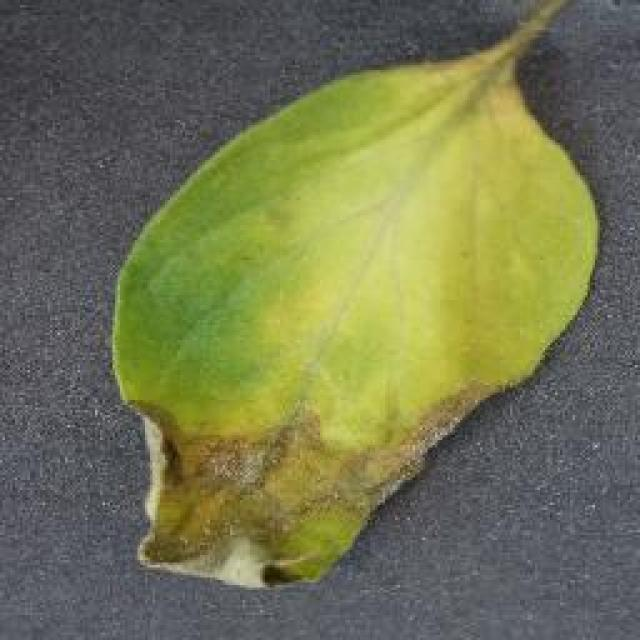Tomato_Late_Blight: (103, 380, 502, 598)
